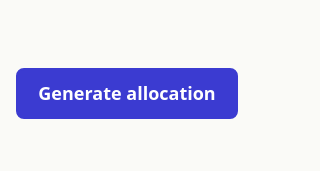
App › shows the server's message on error
Click the button "Generate allocation": point(127, 93) [16,68,238,118]
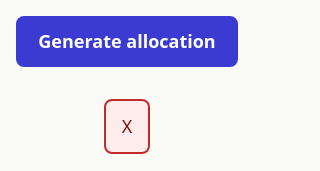
Expected: the button "Generate allocation" is enabled, [16,16,238,67]
Expected: the text "X" is shown, [122,113,132,140]
